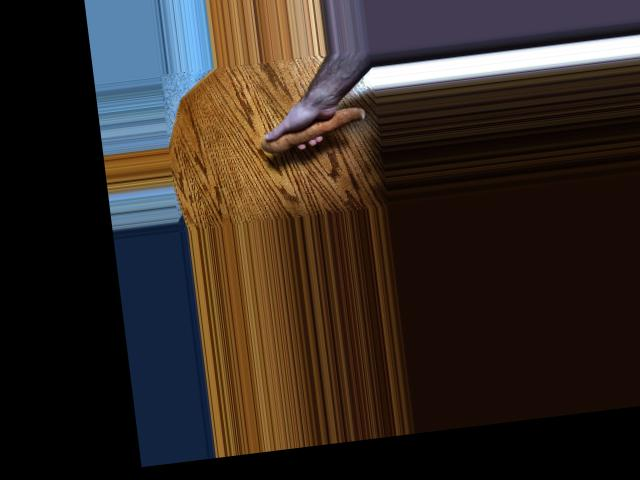sweet_potato: (258, 104, 369, 155)
